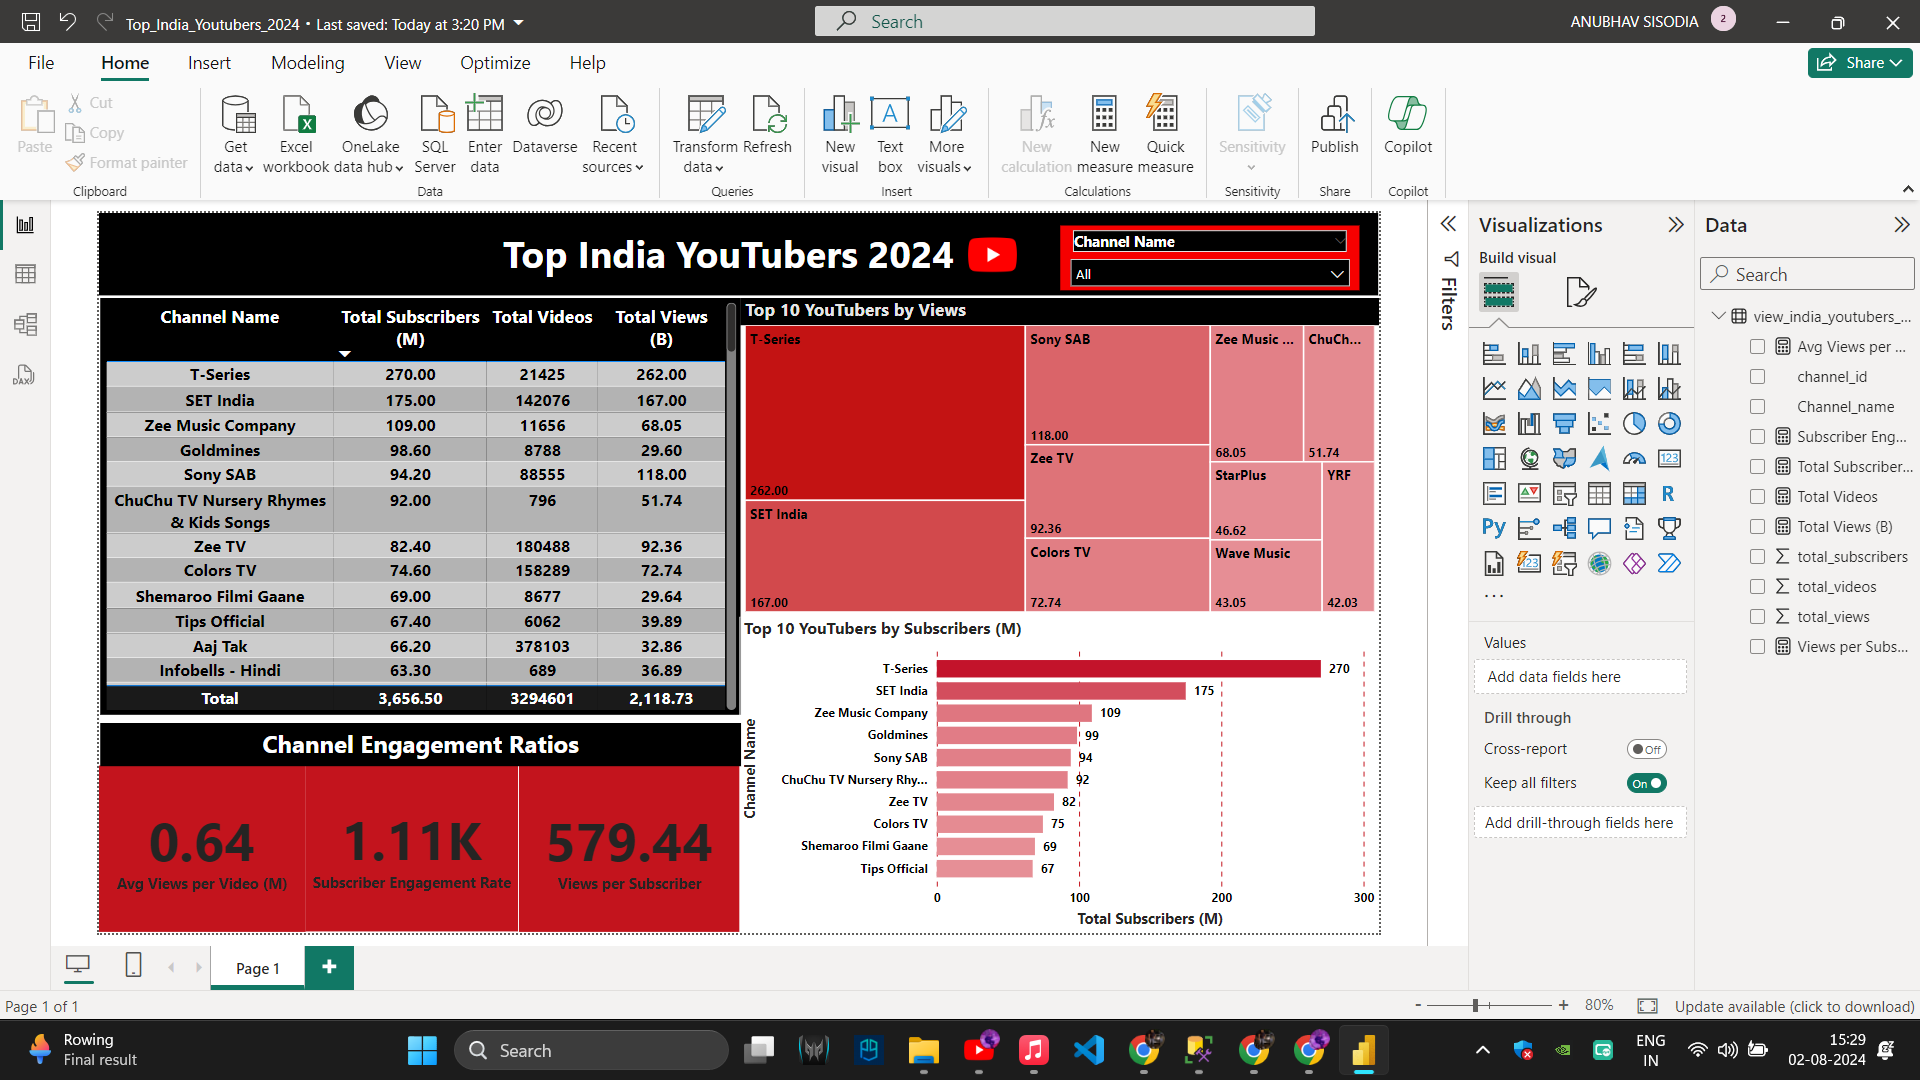

This screenshot's page, from the dashboard's own definition file:
{"tool":"powerbi","page":{"name":"Page 1","canvas":[1280,720],"ordinal":0},"visuals":[{"type":"textbox","box":[0,0,1279.1,82],"z":0},{"type":"tableEx","fields":{"Values":["view_india_youtubers_2024.channel_name","view_india_youtubers_2024.Total Subscribers (M)","view_india_youtubers_2024.Total Videos","view_india_youtubers_2024.Total Views (B)"]},"box":[1.2,84.4,640.8,417],"z":1000},{"type":"treemap","title":"Top 10 YouTubers by Views","fields":{"Group":["view_india_youtubers_2024.Channel_name"],"Values":["view_india_youtubers_2024.Total Views (B)"]},"box":[640.8,84.4,639.5,319.2],"z":2000},{"type":"card","fields":{"Values":["view_india_youtubers_2024.Avg Views per Video (M)"]},"box":[0,553.1,206.2,166.7],"z":3000},{"type":"card","fields":{"Values":["view_india_youtubers_2024.Subscriber Engagement Rate"]},"box":[206.7,551.5,212.8,167.5],"z":4000},{"type":"card","fields":{"Values":["view_india_youtubers_2024.Views per Subscriber"]},"box":[419.8,553.1,221,166.7],"z":5000},{"type":"clusteredBarChart","title":"Top 10 YouTubers by Subscribers (M) ","fields":{"Category":["view_india_youtubers_2024.Channel_name"],"Y":["view_india_youtubers_2024.Total Subscribers (M)"]},"box":[639.5,403.7,640.7,316],"z":6000},{"type":"textbox","box":[1.2,509.9,640.7,43.2],"z":7000},{"type":"image","box":[847.4,12.2,91.7,58.7],"z":8000},{"type":"slicer","fields":{"Values":["view_india_youtubers_2024.Channel_name"]},"box":[961.1,12.2,299.6,64.8],"z":8001}]}

Visuals, with their boxes on the page's 1280x720 design canvas (x1, y1, x2, y2). These are canvas units, not pixel positions in the 1920x1080 screenshot, which may show the page scaled, cropped or inside an application window:
textbox: l=0, t=0, r=1279, b=82
tableEx - view_india_youtubers_2024.channel_name x view_india_youtubers_2024.Total Subscribers (M): l=1, t=84, r=642, b=501
"Top 10 YouTubers by Views" treemap: l=641, t=84, r=1280, b=404
card - view_india_youtubers_2024.Avg Views per Video (M): l=0, t=553, r=206, b=720
card - view_india_youtubers_2024.Subscriber Engagement Rate: l=207, t=552, r=420, b=719
card - view_india_youtubers_2024.Views per Subscriber: l=420, t=553, r=641, b=720
"Top 10 YouTubers by Subscribers (M) " clusteredBarChart: l=640, t=404, r=1280, b=720
textbox: l=1, t=510, r=642, b=553
image: l=847, t=12, r=939, b=71
slicer - view_india_youtubers_2024.Channel_name: l=961, t=12, r=1261, b=77
